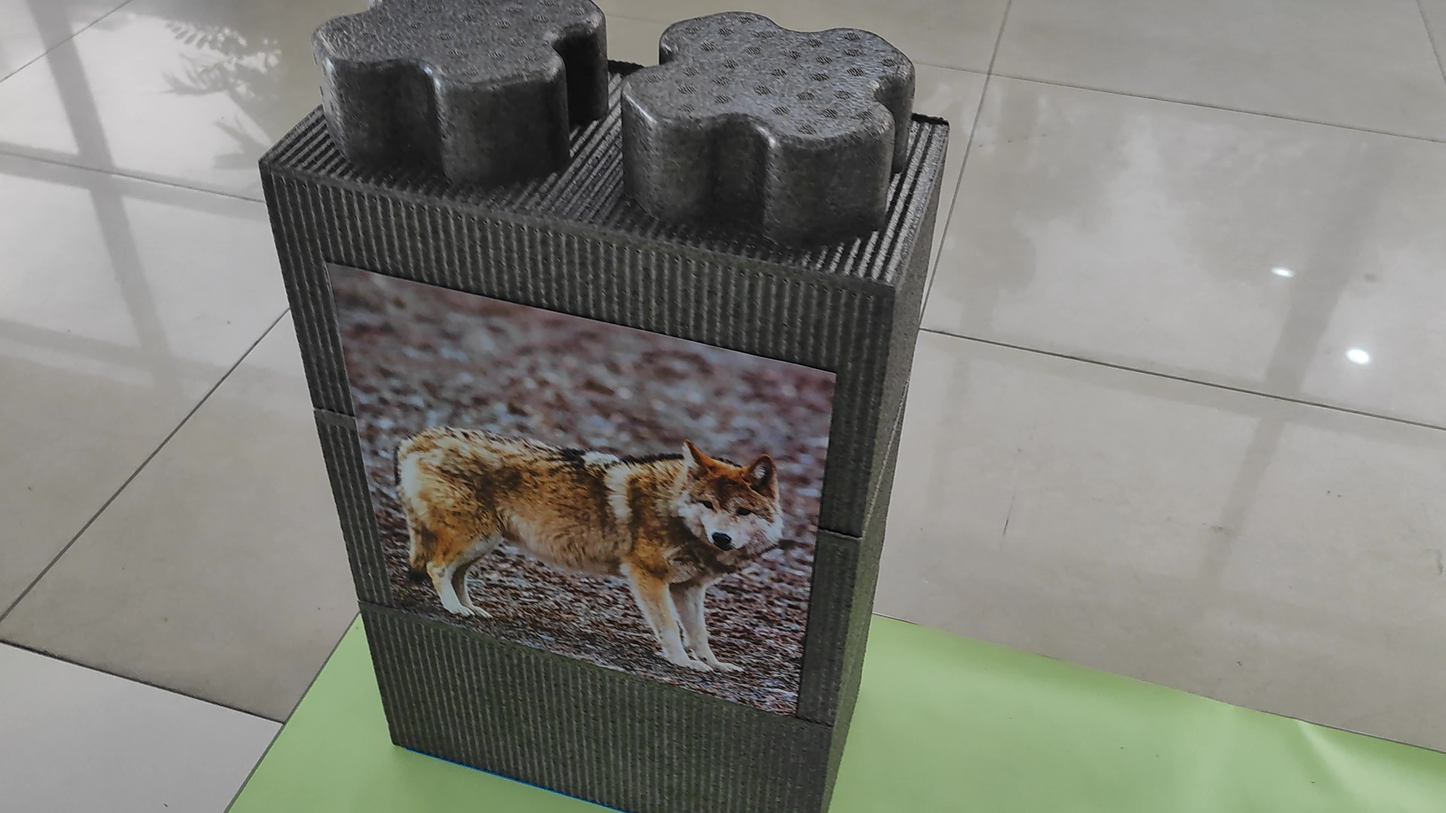wolf: (354, 334, 811, 697)
